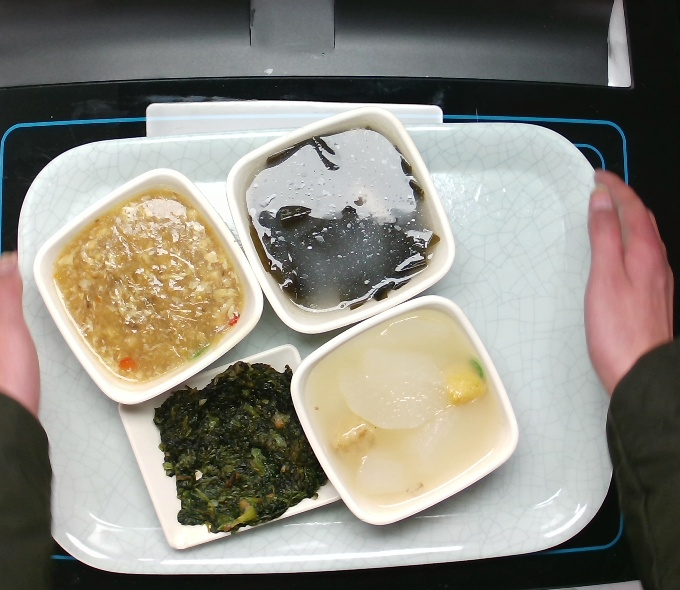wcq-HaiDaiPaiGuTang: (235, 121, 443, 316)
wcq-LuoBoYouPaoTang: (299, 306, 507, 508)
wcq-QinCaiBing: (153, 364, 332, 533)
wcq-SuanLaGeng: (50, 187, 246, 388)
